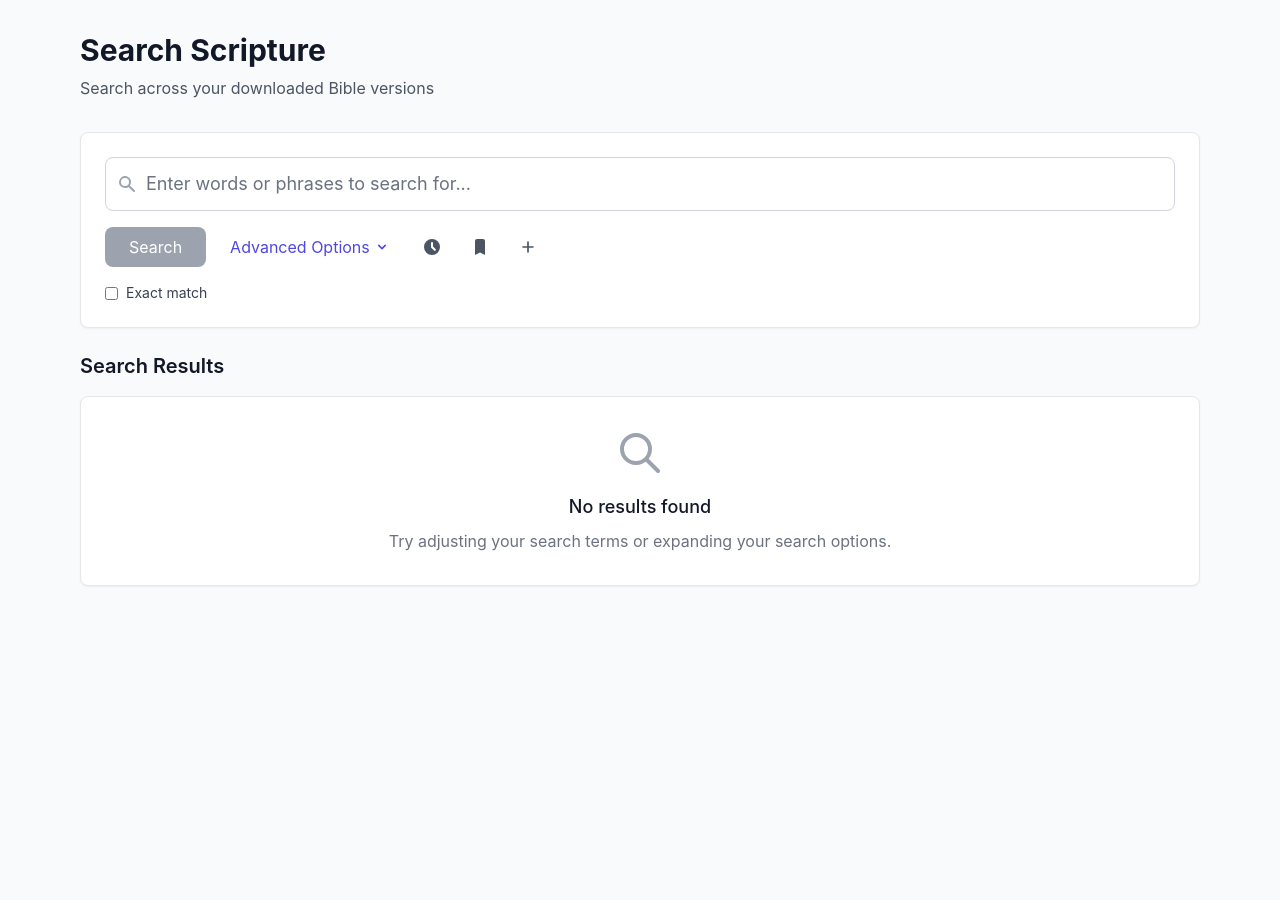
Test case: SearchView › saved searches › should show save search dialog
Click the button titled "Save Search" at (528, 247), box x1=510 y1=229 x2=546 y2=265
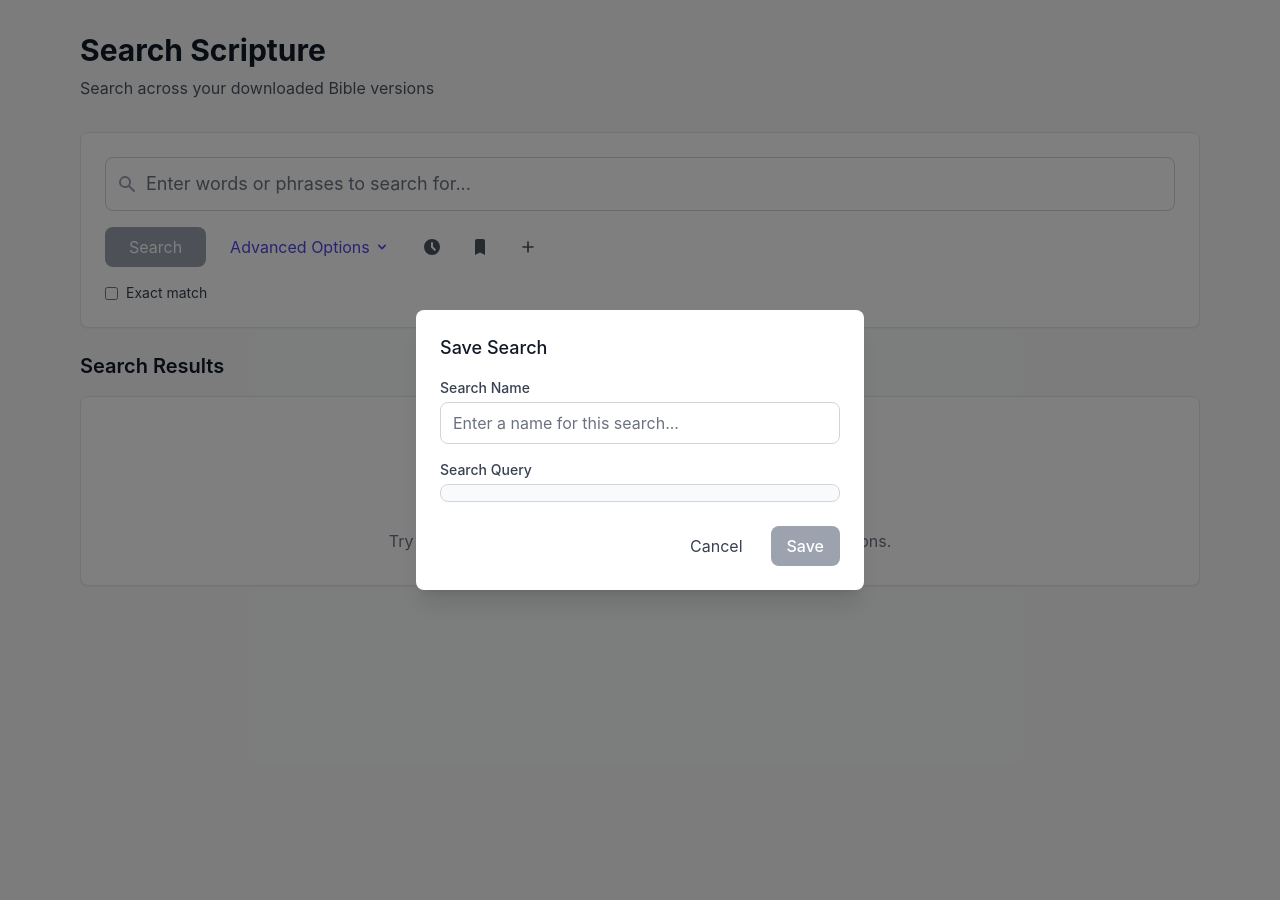
Expected: the text "Save Search" is shown, x1=440 y1=337 x2=547 y2=358
